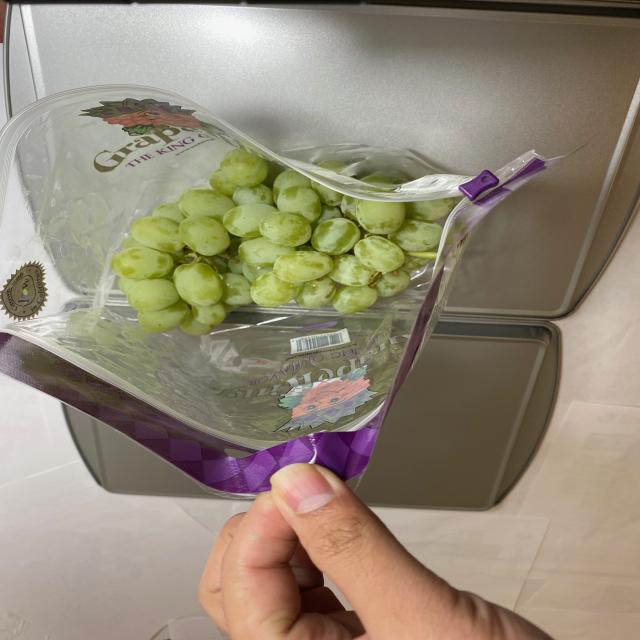grapes: (109, 151, 471, 332)
